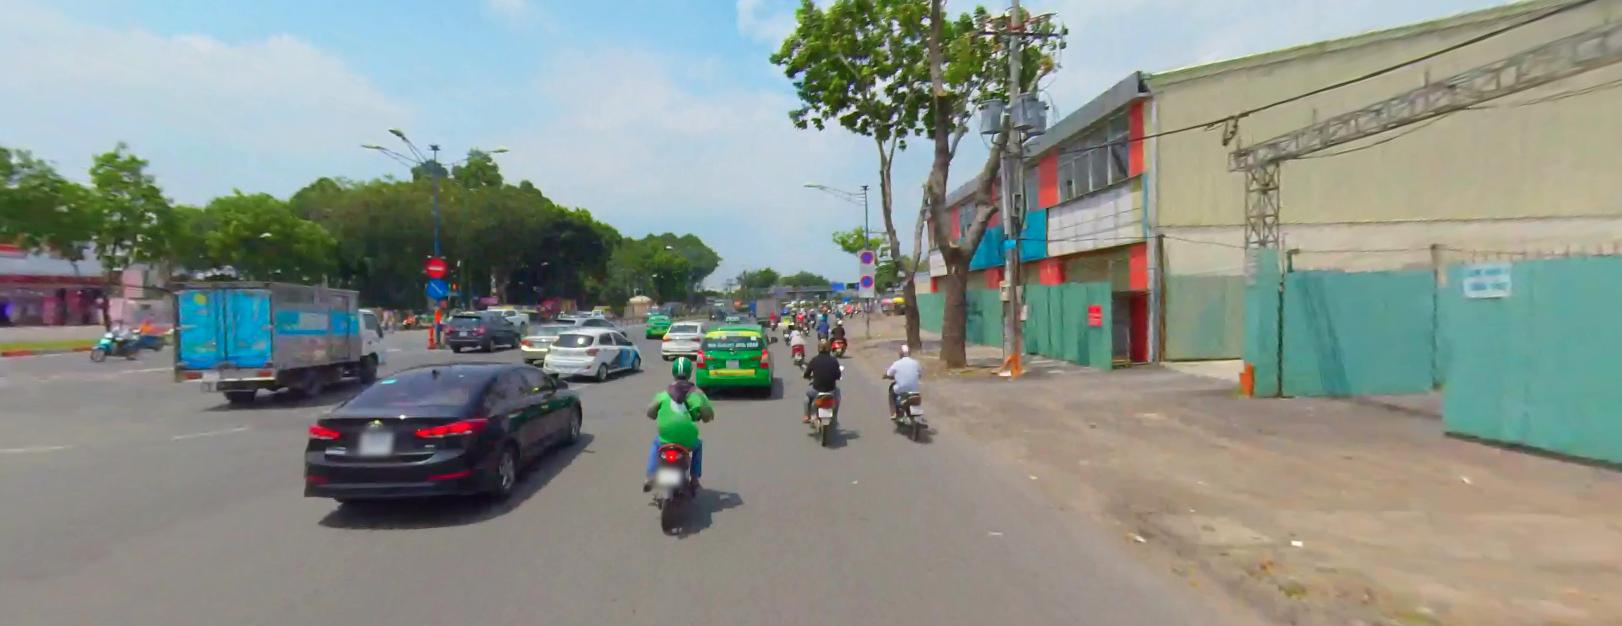Cam dung va do: (860, 274, 872, 286), (860, 250, 872, 262)
Cam nguoc chieu: (424, 254, 446, 272)
Hieu lenh: (426, 277, 445, 297)
